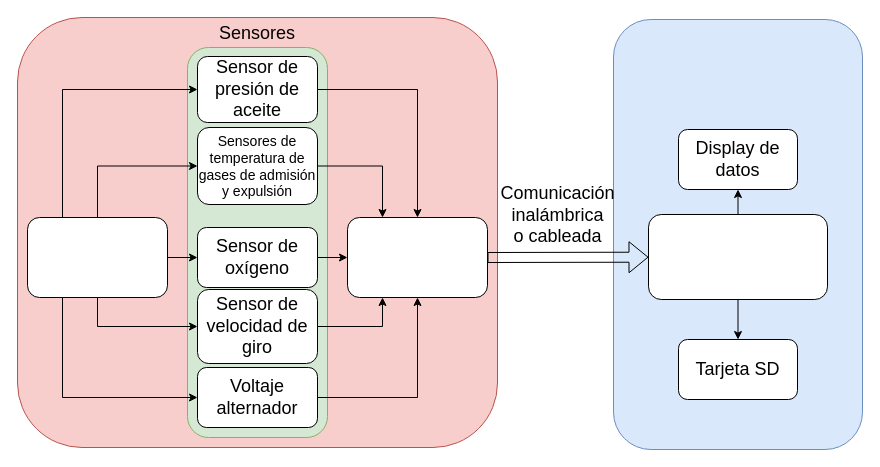
The diagram is 880 pixels wide and 467 high, and some of its shapes have lost their labels. The box of each missing label's shape, as (x1, y1, x2, y2) in pixels:
Dispositivo móvil (Tablet) o Single board computer: (648, 214, 828, 300)
Motor de combustión interna: (26, 216, 168, 298)
Sistema adquisidor: (346, 216, 488, 298)
